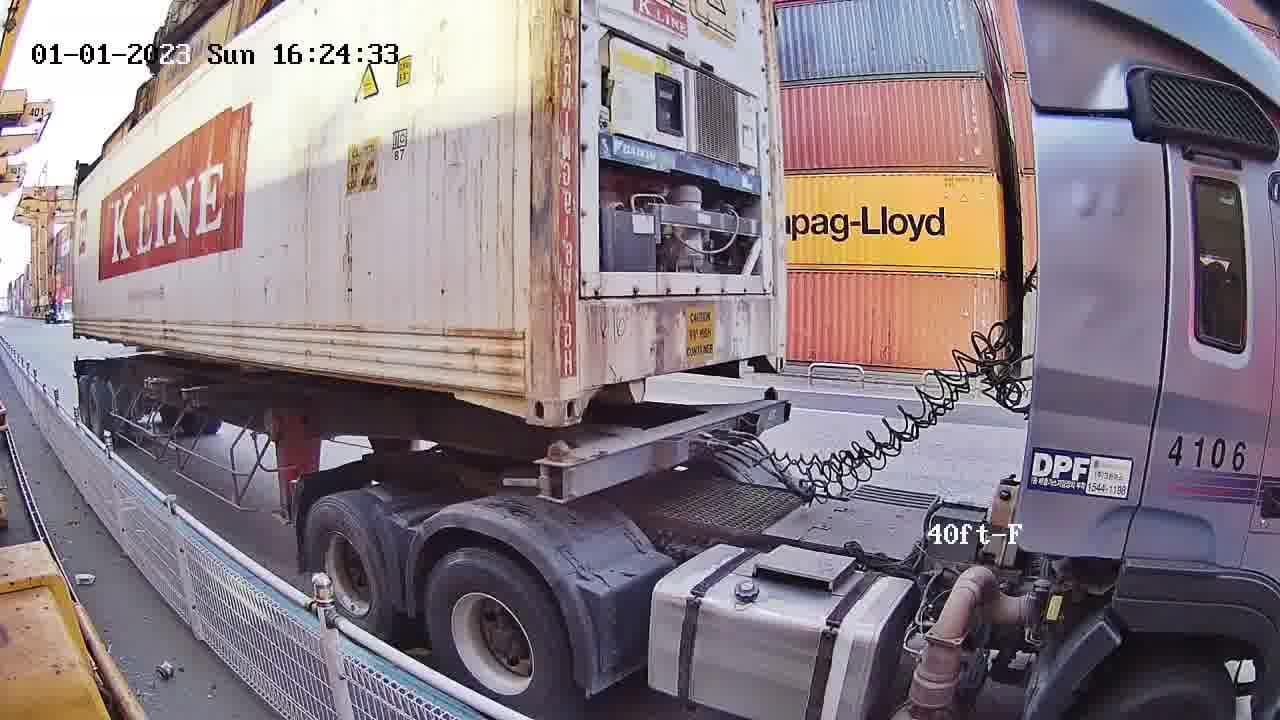Chassis: (540, 397, 789, 502)
Cone: (536, 438, 571, 502), (757, 384, 786, 427)
Hole_L: (556, 365, 608, 425)
Hole_R: (505, 362, 557, 427), (752, 331, 788, 373)
Tire: (426, 553, 566, 714), (301, 500, 389, 633)
